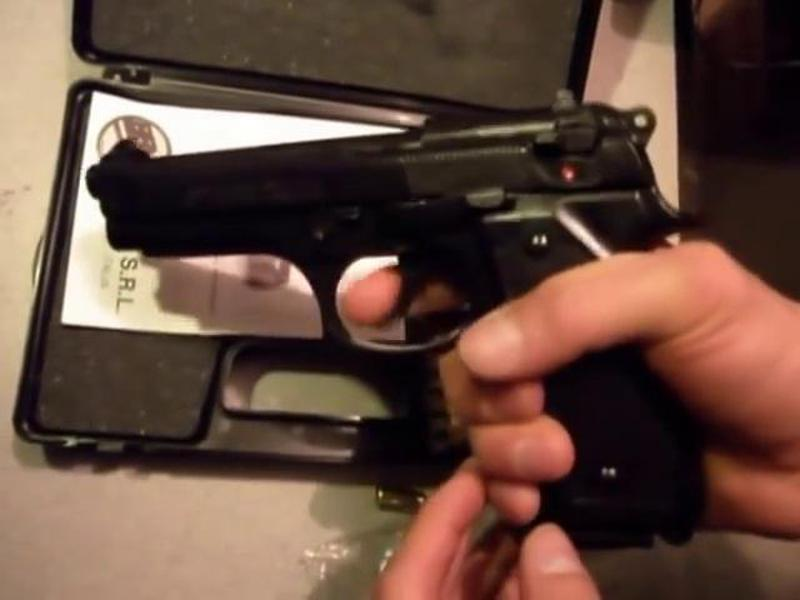Pistola: (78, 105, 722, 544)
